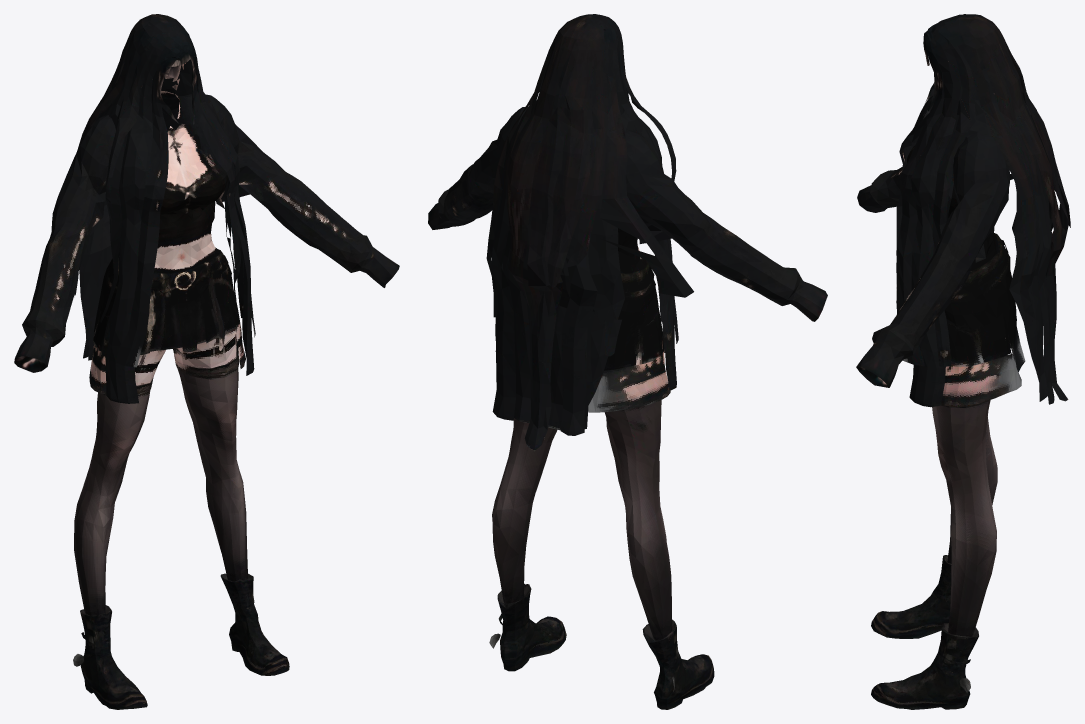
File: ewm_t2catgirl_outfit.glb
The picture shows the model from 3 angles, left to right: view 1: azimuth 30°, elevation 25°; view 2: azimuth 150°, elevation 25°; view 3: azimuth 270°, elevation 25°; orthographic projection. The views are drawn at different scales.
Parts seen in each view (by area): view 1: ewm_t2catgirl_outfit; view 2: ewm_t2catgirl_outfit; view 3: ewm_t2catgirl_outfit.
Part boxes in pixels (x1,y1,x2,y2): ewm_t2catgirl_outfit: (14, 14, 399, 709); ewm_t2catgirl_outfit: (428, 14, 827, 709); ewm_t2catgirl_outfit: (856, 14, 1070, 709).
Bounding box in the file's own units: 1.15 × 1.87 × 0.5588.
Materials: 1 (1 with a texture image).
